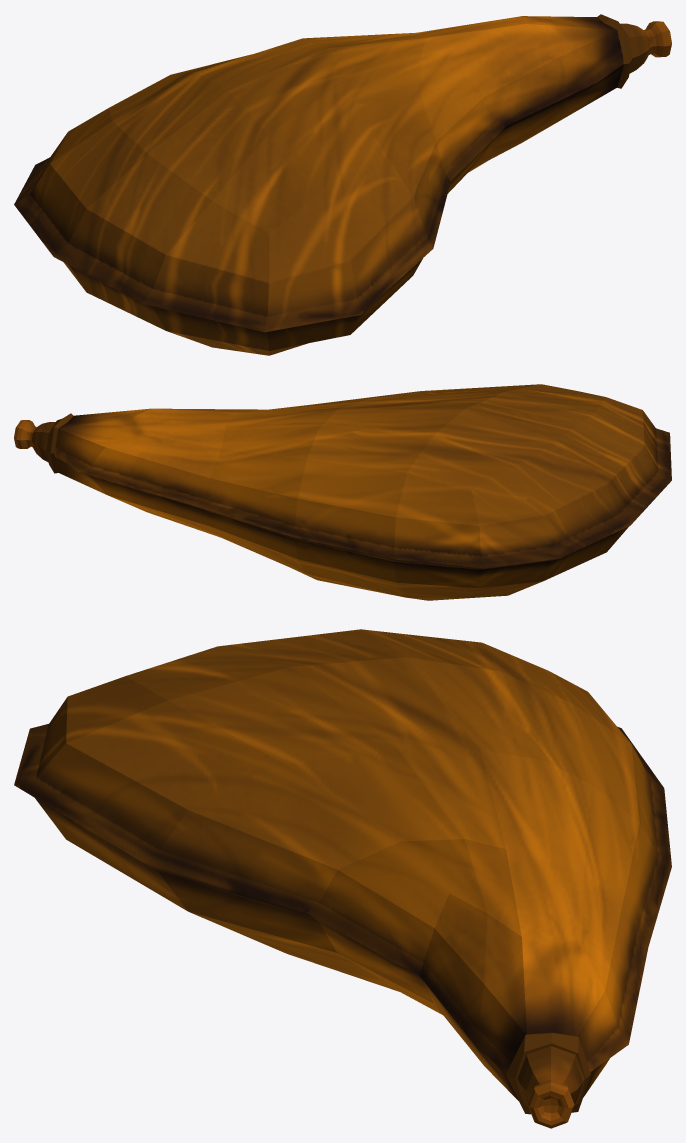
Rendered from WasserFlascheUni.fbx.
3 views of the same model, one above another, from view 1: azimuth 30°, elevation 25°; view 2: azimuth 150°, elevation 25°; view 3: azimuth 270°, elevation 25° (orthographic). The views are drawn at different scales.
Parts seen in each view (by area): view 1: Wasserflasche; view 2: Wasserflasche; view 3: Wasserflasche.
Part boxes in pixels (left/top/right/bottom): Wasserflasche: left=14, top=14, right=671, bottom=355; Wasserflasche: left=14, top=384, right=671, bottom=600; Wasserflasche: left=14, top=629, right=671, bottom=1128.
Bounding box in the file's own units: 18.36 × 5.57 × 11.85.
